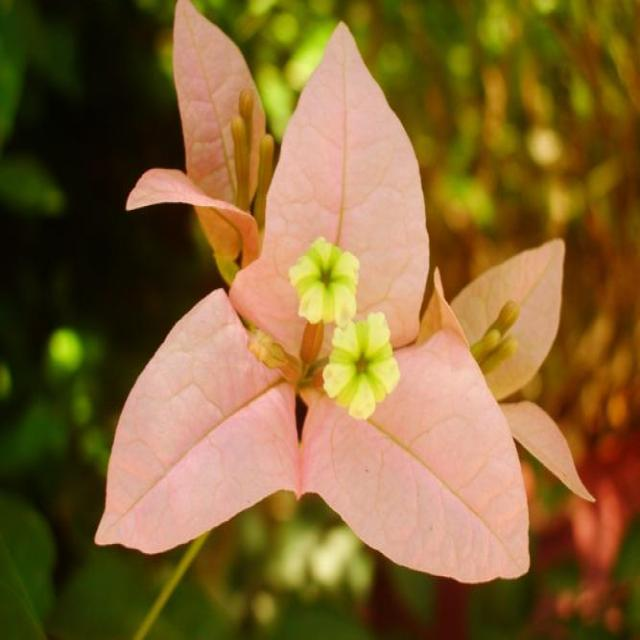bougainvillea: (36, 36, 607, 633)
